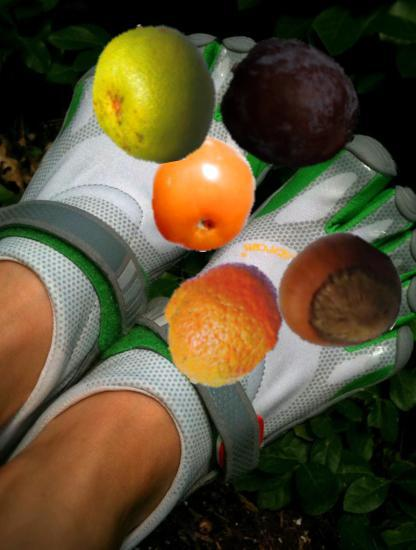Mandarine: (156, 257, 290, 391)
Nut: (279, 233, 403, 357)
Plum: (220, 36, 362, 178)
Pomelo: (83, 23, 225, 165)
Tomato: (144, 133, 264, 253)
